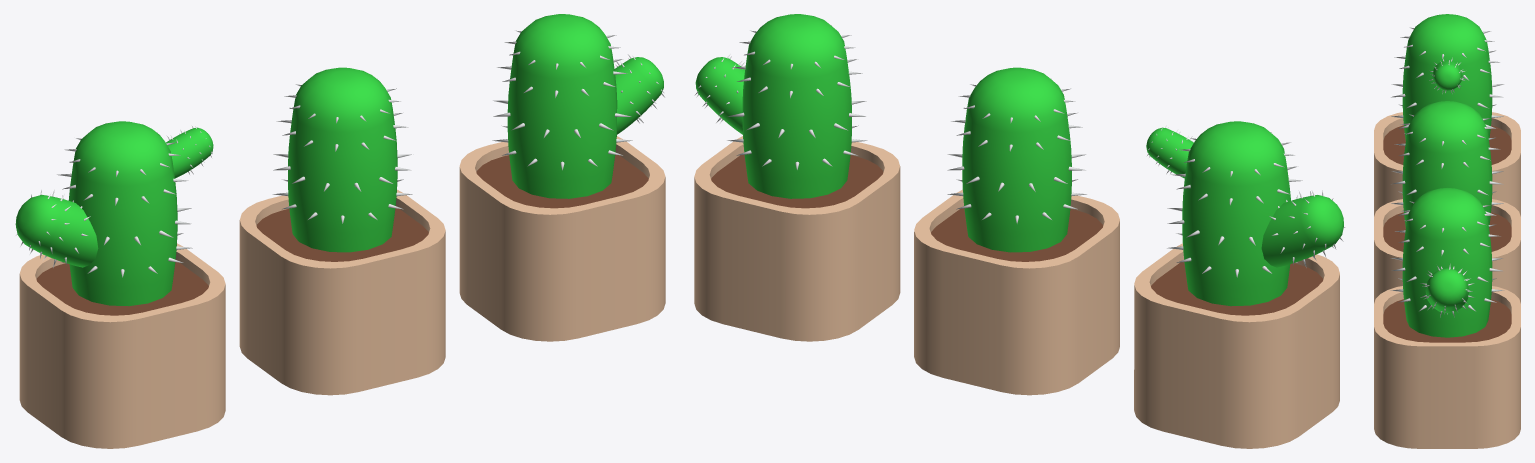
The model's file is Plant-2.fbx.
The picture shows the model from 3 angles, left to right: view 1: azimuth 30°, elevation 25°; view 2: azimuth 150°, elevation 25°; view 3: azimuth 270°, elevation 25°; orthographic projection. The views are drawn at different scales.
Parts seen in each view (by area): view 1: Cactus-3, Cactus-1, Cactus-2; view 2: Cactus-3, Cactus-1, Cactus-2; view 3: Cactus-1, Cactus-3, Cactus-2.
Part boxes in pixels (x1,y1,x2,y2): Cactus-3: (15, 121, 225, 448); Cactus-1: (459, 14, 665, 341); Cactus-2: (239, 67, 445, 395); Cactus-3: (1134, 121, 1345, 448); Cactus-1: (694, 14, 900, 341); Cactus-2: (914, 67, 1119, 395); Cactus-1: (1374, 188, 1520, 448); Cactus-3: (1374, 14, 1520, 216); Cactus-2: (1374, 101, 1520, 303).
Size of the model in its own units: 1.15 by 0.476 by 0.2827.
